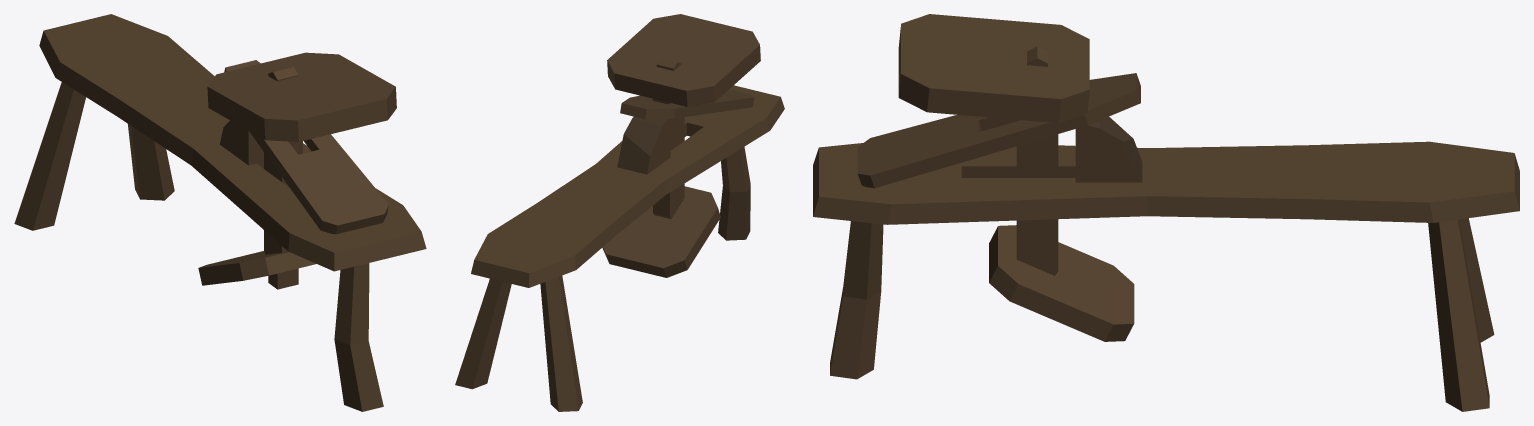
File: ShaveHorse.fbx
3 renders of one model, left to right at view 1: azimuth 30°, elevation 25°; view 2: azimuth 150°, elevation 25°; view 3: azimuth 270°, elevation 25°, orthographic. The views are drawn at different scales.
Parts seen in each view (by area): view 1: ShaveHorse; view 2: ShaveHorse; view 3: ShaveHorse.
Boxes of the visible parts, x1,y1,x2,y2 form: ShaveHorse: [14, 14, 426, 411]; ShaveHorse: [455, 14, 784, 411]; ShaveHorse: [813, 14, 1519, 411].
Size of the model in its own units: 52.14 by 89.74 by 179.
